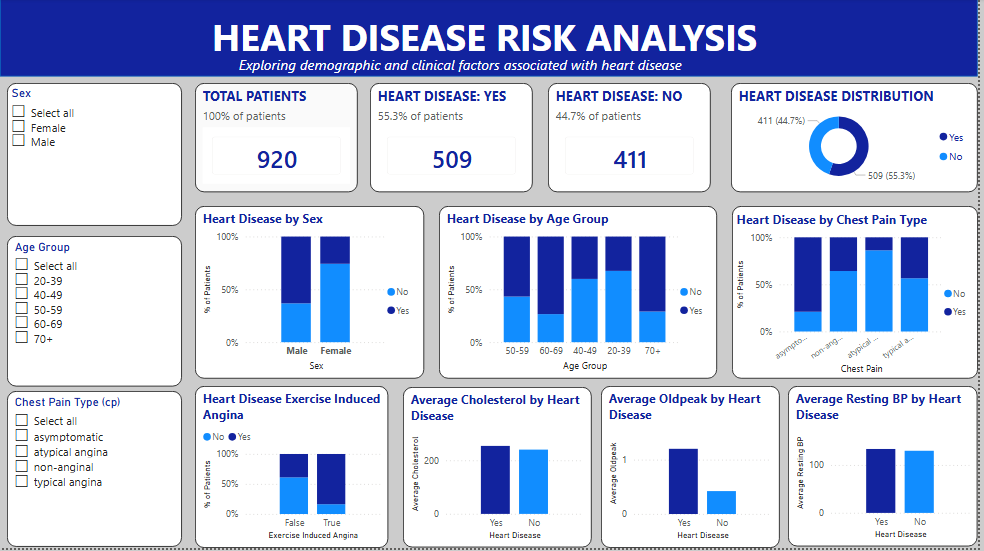

What the dashboard file says about the page in this screenshot:
{"tool":"powerbi","page":{"name":"Analysis Dashboard","canvas":[1280,720],"ordinal":0},"visuals":[{"type":"shape","box":[0,0,1279.8,102.9],"z":0},{"type":"cardVisual","title":"TOTAL PATIENTS","fields":{"Data":["CountNonNull(heart_disease_clean.id)"]},"box":[255.7,111.7,213.1,142.5],"z":1000},{"type":"donutChart","title":"HEART DISEASE DISTRIBUTION ","fields":{"Category":["heart_disease_clean.heart_disease"],"Y":["CountNonNull(heart_disease_clean.heart_disease)"]},"box":[956.6,111.7,323.3,142.5],"z":2000},{"type":"hundredPercentStackedColumnChart","title":"Heart Disease by Sex","fields":{"Category":["heart_disease_clean.sex"],"Series":["heart_disease_clean.heart_disease"],"Y":["CountNonNull(heart_disease_clean.id)"]},"box":[255.7,271.8,299.8,226.3],"z":3000},{"type":"hundredPercentStackedColumnChart","title":"Heart Disease by Age Group","fields":{"Category":["heart_disease_clean.age_group"],"Y":["CountNonNull(heart_disease_clean.id)"],"Series":["heart_disease_clean.heart_disease"]},"box":[574.5,271.8,364.4,226.3],"z":4000},{"type":"hundredPercentStackedColumnChart","title":"Heart Disease Exercise Induced Angina","fields":{"Category":["heart_disease_clean.exang"],"Series":["heart_disease_clean.heart_disease"],"Y":["CountNonNull(heart_disease_clean.id)"]},"box":[255.7,508.4,252.7,211.6],"z":5000},{"type":"hundredPercentStackedColumnChart","title":"Heart Disease by Chest Pain Type","fields":{"Category":["heart_disease_clean.cp"],"Y":["CountNonNull(heart_disease_clean.id)"],"Series":["heart_disease_clean.heart_disease"]},"box":[958,271.8,321.8,226.3],"z":6000},{"type":"lineClusteredColumnComboChart","title":"Average Cholesterol by Heart Disease","fields":{"Category":["heart_disease_clean.heart_disease"],"Y":["Avg(heart_disease_clean.chol)"]},"box":[527.5,509.9,246.9,210.1],"z":7000},{"type":"lineClusteredColumnComboChart","title":"Average Resting BP by Heart Disease","fields":{"Category":["heart_disease_clean.heart_disease"],"Y":["Avg(heart_disease_clean.trestbps)"]},"box":[1031.5,508.4,248.3,210.1],"z":8000},{"type":"lineClusteredColumnComboChart","title":"Average Oldpeak by Heart Disease","fields":{"Category":["heart_disease_clean.heart_disease"],"Y":["Avg(heart_disease_clean.oldpeak)"]},"box":[786.1,508.4,233.6,211.6],"z":9000},{"type":"listSlicer","title":"Sex","fields":{"Values":["heart_disease_clean.sex"]},"box":[8.8,111.7,229.2,186.6],"z":10000},{"type":"listSlicer","title":"Age Group","fields":{"Values":["heart_disease_clean.age_group"]},"box":[8.8,311.5,229.2,196.9],"z":11000},{"type":"listSlicer","title":"Chest Pain Type (cp)","fields":{"Values":["heart_disease_clean.cp"]},"box":[8.8,514.3,229.2,204.2],"z":12000},{"type":"cardVisual","title":"HEART DISEASE: NO","fields":{"Data":["CountNonNull(heart_disease_clean.id)"]},"box":[717.1,111.7,213.1,142.5],"z":13000},{"type":"cardVisual","title":"HEART DISEASE: YES","fields":{"Data":["CountNonNull(heart_disease_clean.id)"]},"box":[484.9,111.7,213.1,142.5],"z":14000},{"type":"textbox","box":[307.1,69.1,650.9,33.8],"z":15000},{"type":"textbox","box":[271.8,11.8,809.6,74.9],"z":16000}]}

Visuals, with their boxes in screenshot pixels (x1, y1, x2, y2), scaled from the page's 1280x720 canvas onto the 984x551 screenshot:
shape: l=0, t=0, r=983, b=79
"TOTAL PATIENTS" cardVisual: l=197, t=85, r=360, b=195
"HEART DISEASE DISTRIBUTION " donutChart: l=735, t=85, r=983, b=195
"Heart Disease by Sex" hundredPercentStackedColumnChart: l=197, t=208, r=427, b=381
"Heart Disease by Age Group" hundredPercentStackedColumnChart: l=442, t=208, r=722, b=381
"Heart Disease Exercise Induced Angina" hundredPercentStackedColumnChart: l=197, t=389, r=391, b=550
"Heart Disease by Chest Pain Type" hundredPercentStackedColumnChart: l=736, t=208, r=983, b=381
"Average Cholesterol by Heart Disease" lineClusteredColumnComboChart: l=406, t=390, r=595, b=550
"Average Resting BP by Heart Disease" lineClusteredColumnComboChart: l=793, t=389, r=983, b=550
"Average Oldpeak by Heart Disease" lineClusteredColumnComboChart: l=604, t=389, r=784, b=550
"Sex" listSlicer: l=7, t=85, r=183, b=228
"Age Group" listSlicer: l=7, t=238, r=183, b=389
"Chest Pain Type (cp)" listSlicer: l=7, t=394, r=183, b=550
"HEART DISEASE: NO" cardVisual: l=551, t=85, r=715, b=195
"HEART DISEASE: YES" cardVisual: l=373, t=85, r=537, b=195
textbox: l=236, t=53, r=736, b=79
textbox: l=209, t=9, r=831, b=66
